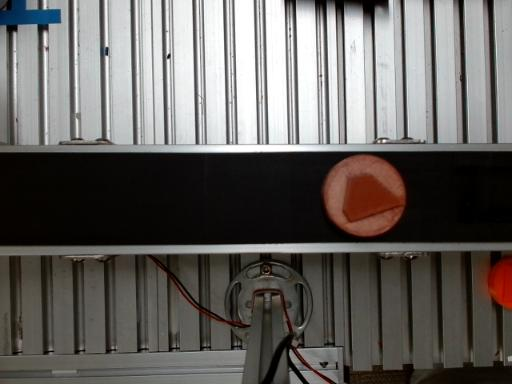Brown_Waper: (322, 155, 406, 237)
Not_Square: (342, 173, 405, 224)
